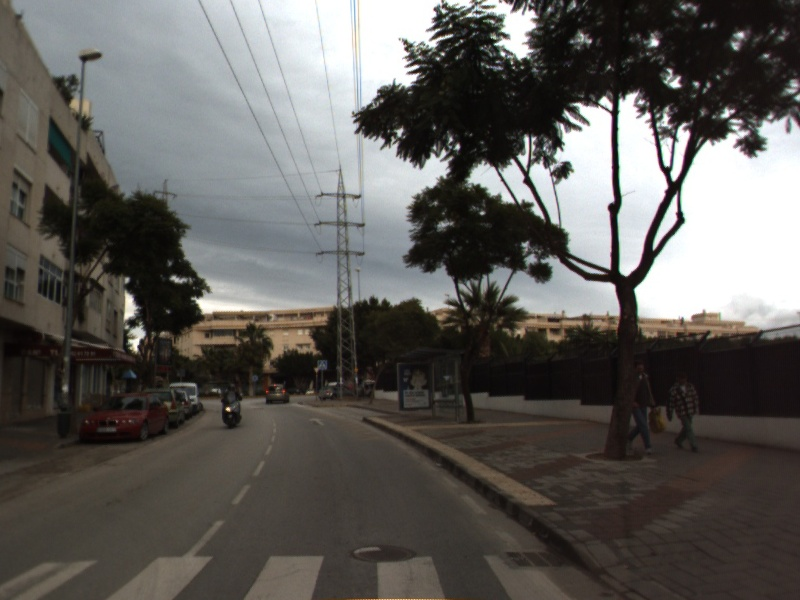STRAIGHT: (306, 415, 328, 427)
